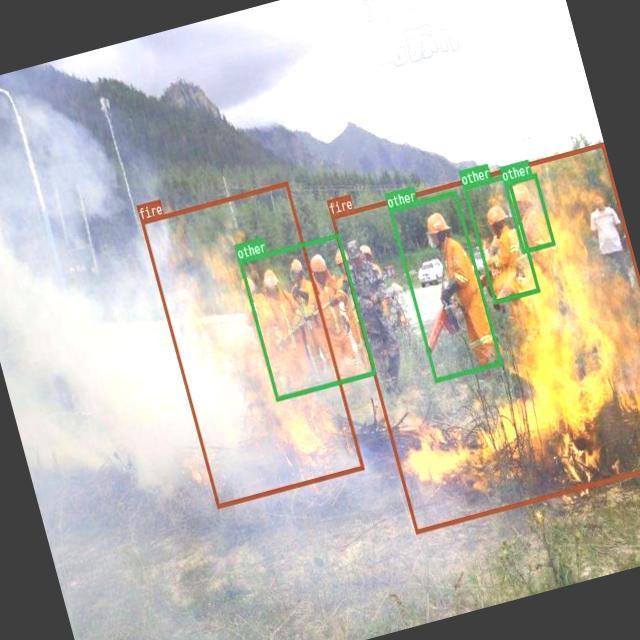fire: (329, 141, 640, 532), (140, 180, 363, 508)
